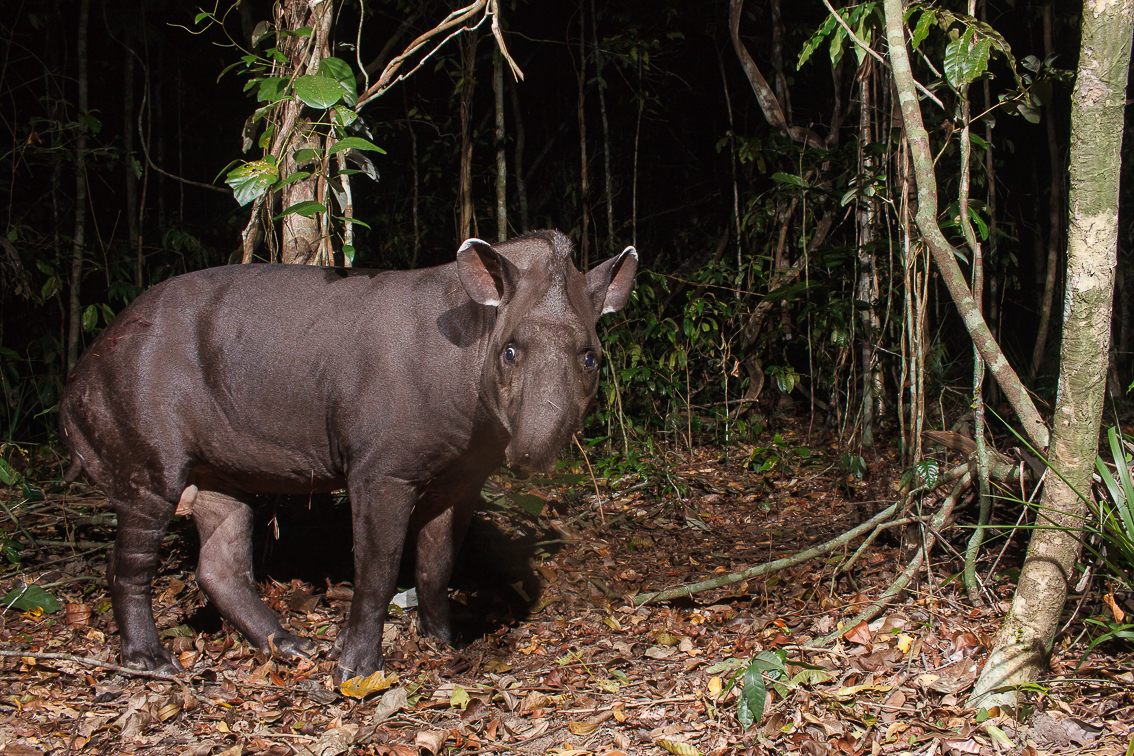Anta: (45, 228, 646, 684)
